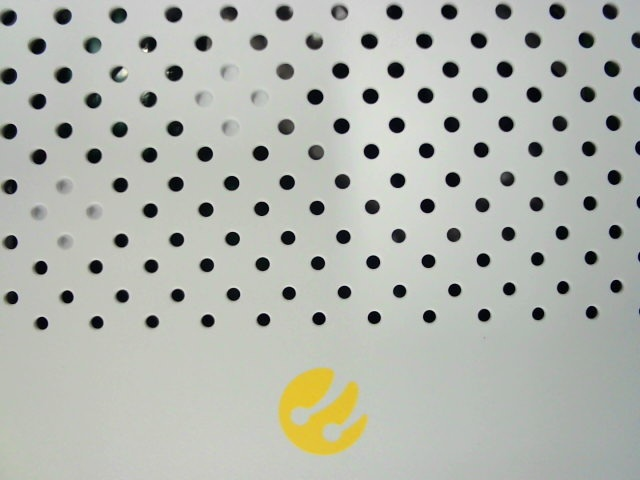AV_H3600Yellow: (269, 360, 377, 466)
